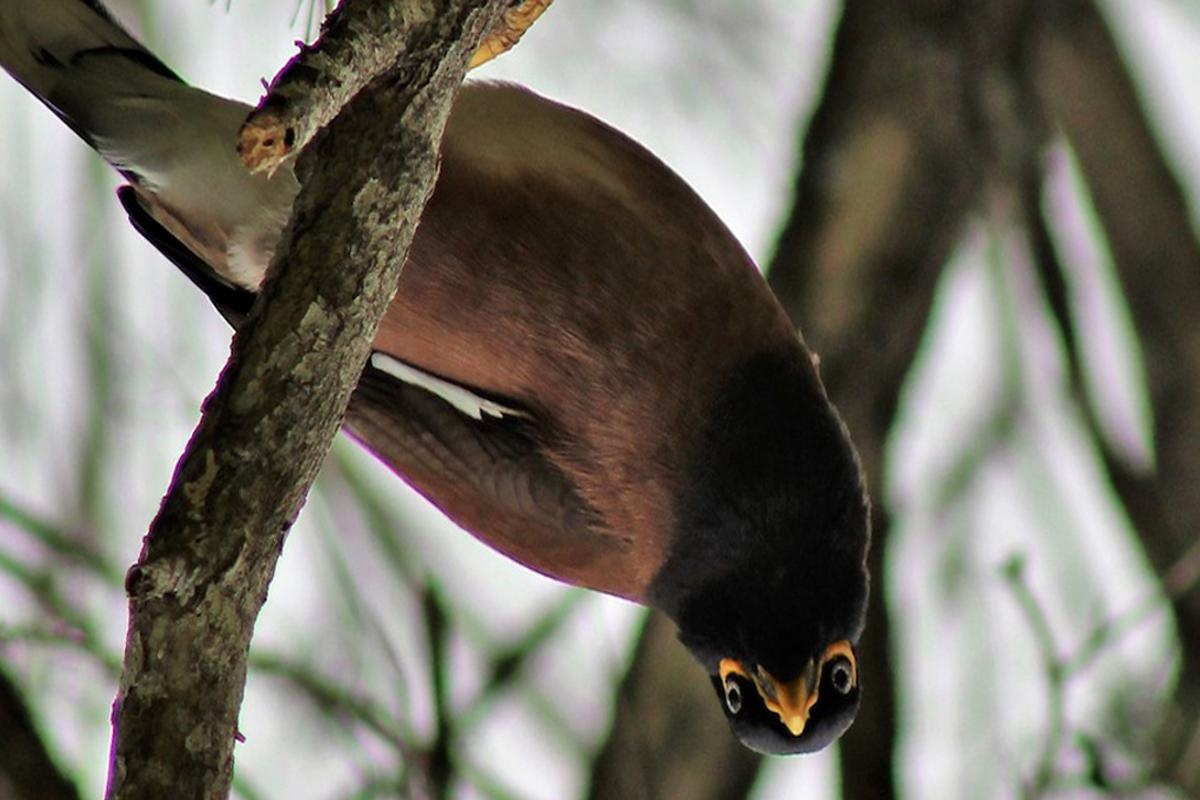myna: (323, 63, 1046, 773)
